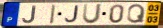0: (109, 3, 126, 24)
I: (49, 4, 57, 25)
J: (64, 5, 79, 24), (22, 5, 37, 24)
Q: (126, 4, 147, 25)
U: (81, 3, 104, 25)
